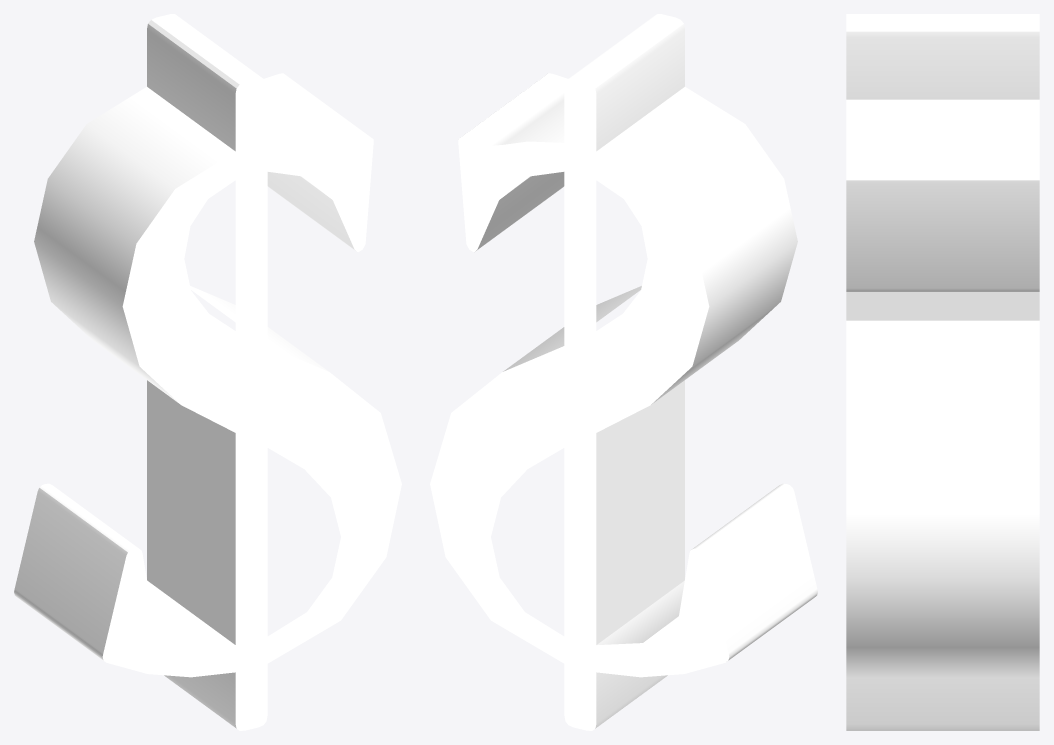
File: symbol$_Soul_White.glb
3 renders of one model, left to right at view 1: azimuth 30°, elevation 25°; view 2: azimuth 150°, elevation 25°; view 3: azimuth 270°, elevation 25°, orthographic. The views are drawn at different scales.
Parts seen in each view (by area): view 1: $_Soul_White; view 2: $_Soul_White; view 3: $_Soul_White.
Boxes of the visible parts, <box> form: $_Soul_White: <box>14,14,401,730</box>; $_Soul_White: <box>430,14,817,730</box>; $_Soul_White: <box>846,14,1039,730</box>.
Size of what is drawn, in the model's own units: 0.0878 by 0.1816 by 0.045.
Materials: 2 (2 with a texture image).
